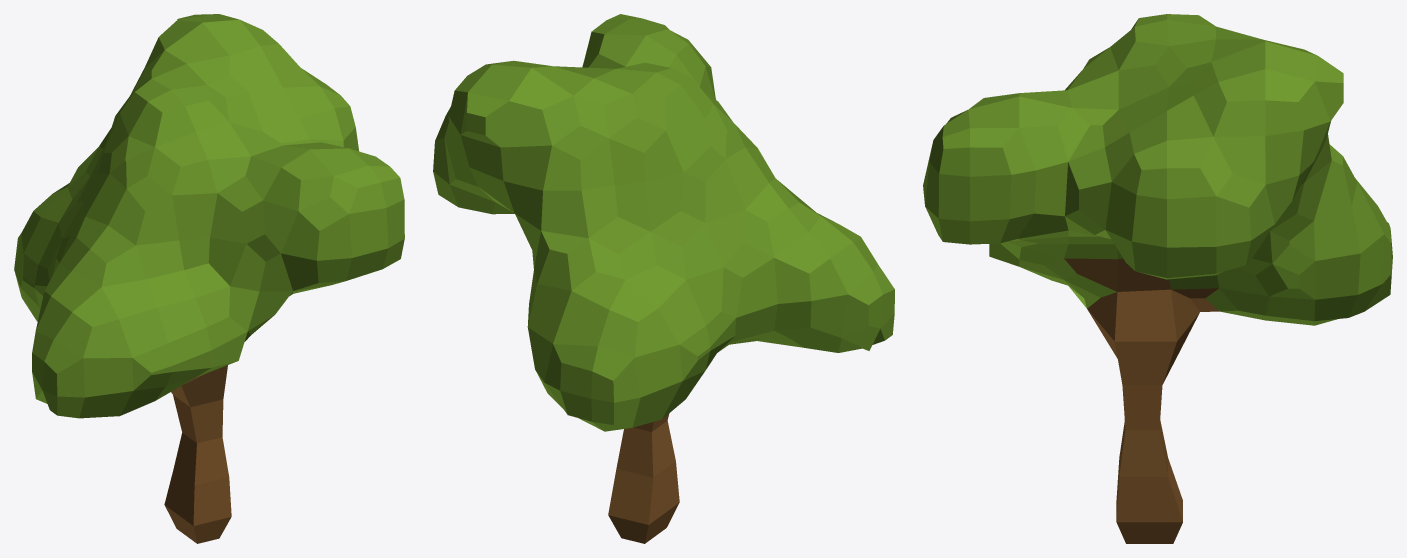
File: Tree_LOD_3.fbx
3 renders of one model, left to right at view 1: azimuth 30°, elevation 25°; view 2: azimuth 150°, elevation 25°; view 3: azimuth 270°, elevation 25°, orthographic. The views are drawn at different scales.
Parts seen in each view (by area): view 1: Cube.004; view 2: Cube.004; view 3: Cube.004.
Part boxes in pixels (left/top/right/bottom): Cube.004: left=14, top=14, right=404, bottom=543; Cube.004: left=433, top=14, right=894, bottom=543; Cube.004: left=923, top=14, right=1392, bottom=543.
Size of the model in its own units: 1910 by 2364 by 1910.
